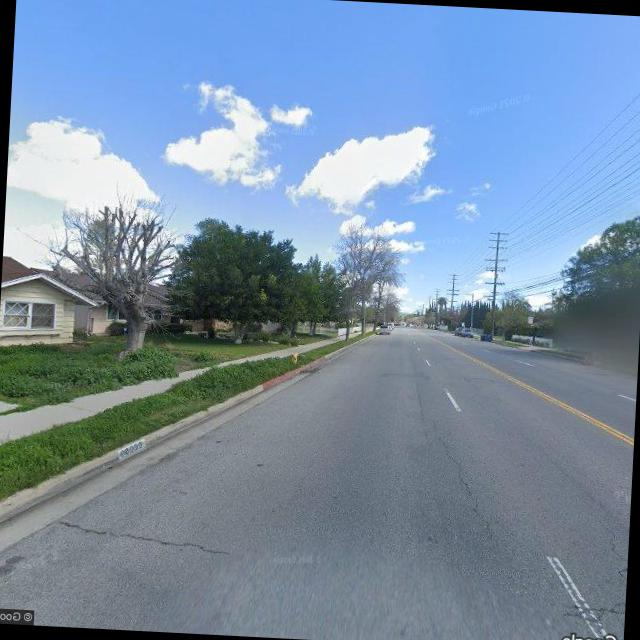crack: (421, 400, 515, 555), (48, 508, 246, 563)
